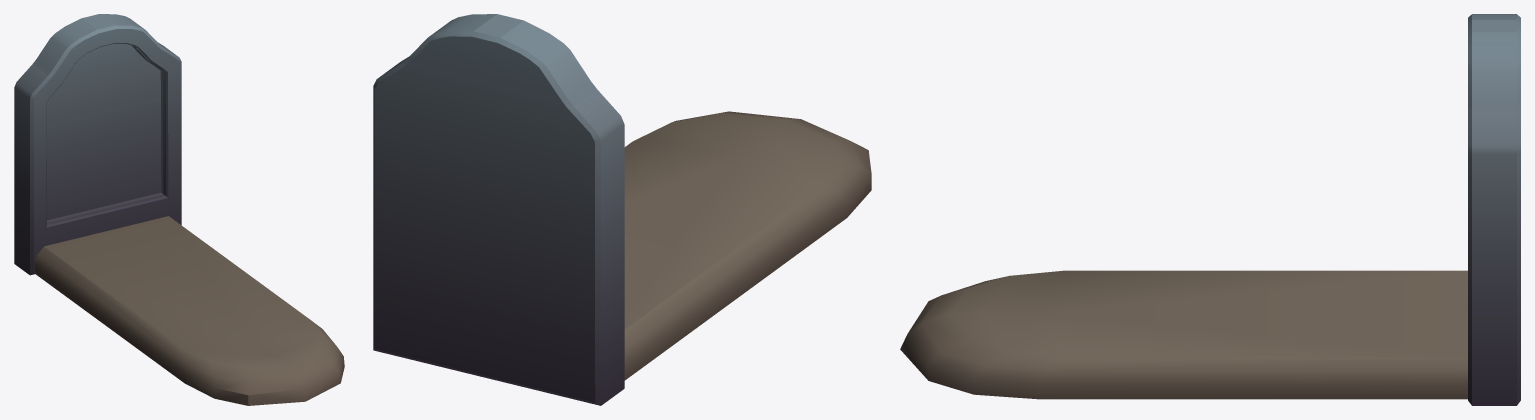
The model's file is GStone4.fbx.
3 views of the same model, side by side, from view 1: azimuth 30°, elevation 25°; view 2: azimuth 150°, elevation 25°; view 3: azimuth 270°, elevation 25° (orthographic). The views are drawn at different scales.
Parts seen in each view (by area): view 1: GStone4; view 2: GStone4; view 3: GStone4.
Boxes of the visible parts, x1,y1,x2,y2 form: GStone4: [14, 14, 344, 405]; GStone4: [373, 14, 871, 405]; GStone4: [900, 14, 1520, 405].
Bounding box in the file's own units: 200 × 289 × 496.
Materials: 1 (1 with a texture image).
